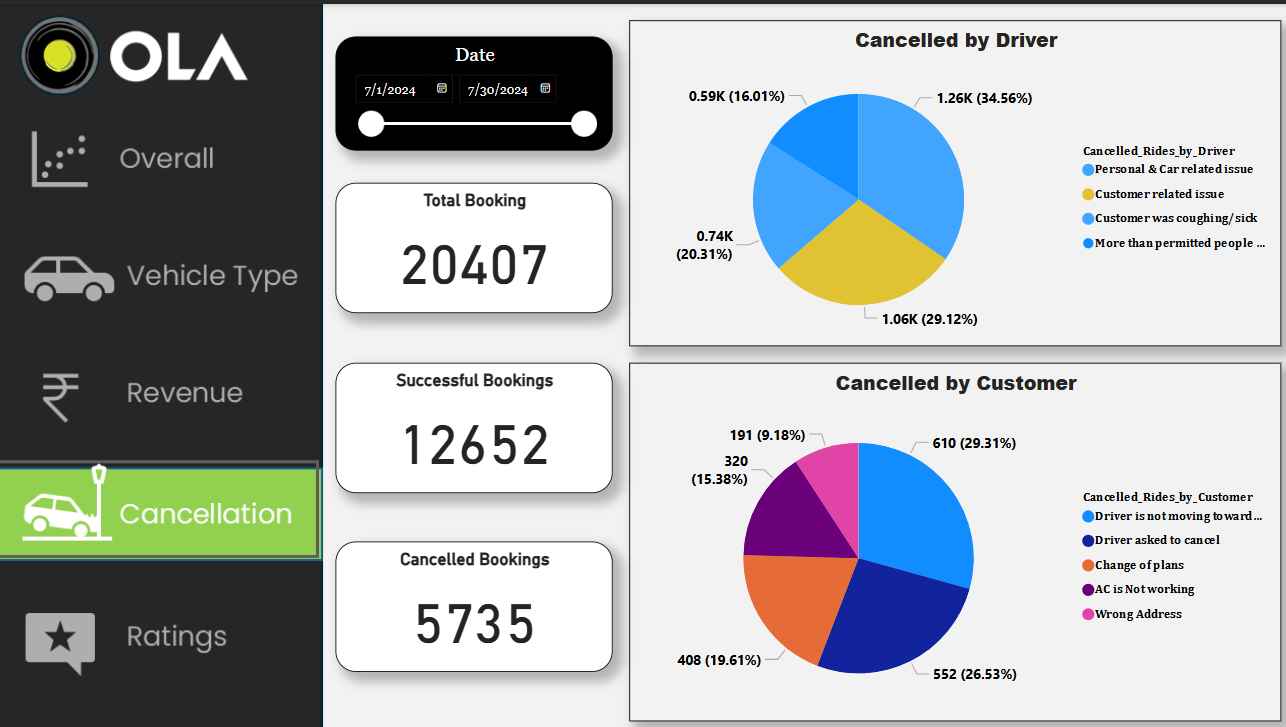

The dashboard page shown, as its layout file describes it:
{"tool":"powerbi","page":{"name":"Cancellation","canvas":[1280,720],"ordinal":3},"visuals":[{"type":"actionButton","box":[0,448,320,96],"z":0},{"type":"pieChart","title":"Cancelled by Driver ","fields":{"Category":["July.Canceled_Rides_by_Driver"],"Y":["CountNonNull(July.Canceled_Rides_by_Driver)"]},"box":[624,16,640,320],"z":1000},{"type":"pieChart","title":"Cancelled by Customer ","fields":{"Category":["July.Canceled_Rides_by_Customer"],"Y":["CountNonNull(July.Canceled_Rides_by_Customer)"]},"box":[624,352,640,352],"z":2000},{"type":"slicer","title":"Date ","fields":{"Values":["July.Date"]},"box":[336,32,272,112],"z":3000},{"type":"card","title":"Total Booking","fields":{"Values":["CountNonNull(July.Booking_ID)"]},"box":[336,176,272,128],"z":4000},{"type":"card","title":"Successful Bookings ","fields":{"Values":["CountNonNull(July.Booking_ID)"]},"box":[336,352,272,128],"z":5000},{"type":"card","title":"Cancelled Bookings","fields":{"Values":["CountNonNull(July.Booking_ID)"]},"box":[336,528,272,128],"z":6000}]}

Visuals, with their boxes on the page's 1280x720 design canvas (x1, y1, x2, y2). These are canvas units, not pixel positions in the 1286x727 screenshot, which may show the page scaled, cropped or inside an application window:
actionButton: l=0, t=448, r=320, b=544
"Cancelled by Driver " pieChart: l=624, t=16, r=1264, b=336
"Cancelled by Customer " pieChart: l=624, t=352, r=1264, b=704
"Date " slicer: l=336, t=32, r=608, b=144
"Total Booking" card: l=336, t=176, r=608, b=304
"Successful Bookings " card: l=336, t=352, r=608, b=480
"Cancelled Bookings" card: l=336, t=528, r=608, b=656
